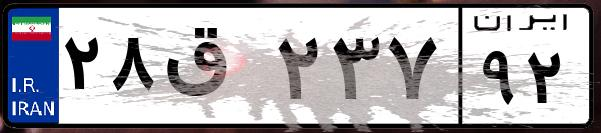2: (270, 28, 330, 110), (57, 26, 110, 100), (525, 38, 570, 115)
3: (330, 28, 385, 110)
7: (385, 28, 445, 110)
8: (110, 28, 158, 98)
9: (475, 38, 525, 113)
ق: (158, 20, 270, 120)
